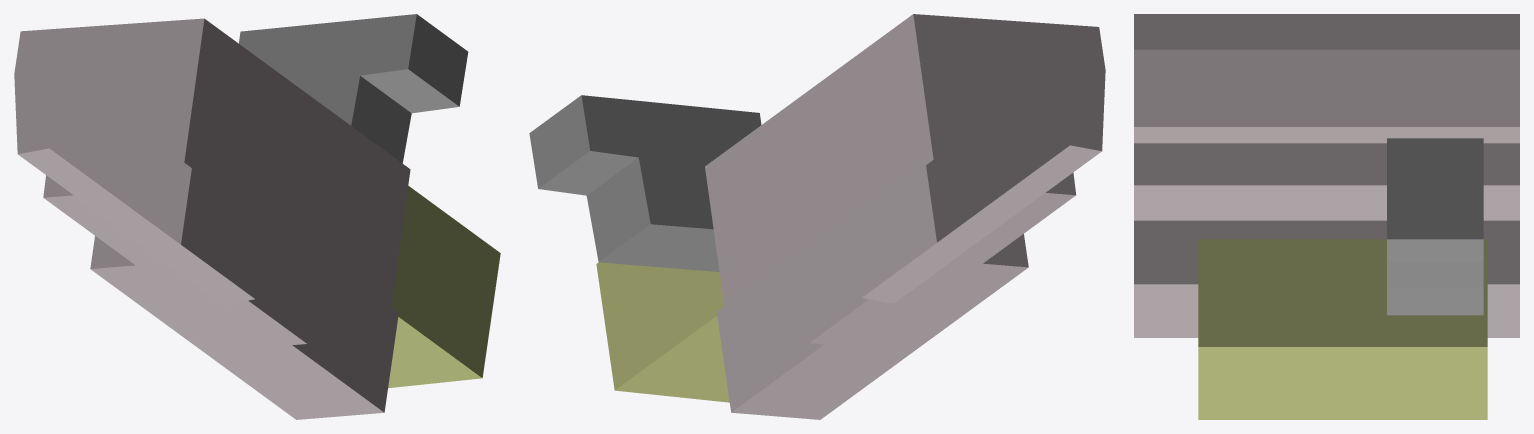
3 renders of one model, left to right at view 1: azimuth 30°, elevation 25°; view 2: azimuth 150°, elevation 25°; view 3: azimuth 270°, elevation 25°, orthographic. The views are drawn at different scales.
Visible parts, largest first — view 1: 0_1_2_0_1_3_0_2_3_0_3; view 2: 0_1_2_0_1_3_0_2_3_0_3; view 3: 0_1_2_0_1_3_0_2_3_0_3.
Boxes of the visible parts, x1,y1,x2,y2 form: 0_1_2_0_1_3_0_2_3_0_3: (14,14,500,419); 0_1_2_0_1_3_0_2_3_0_3: (529,14,1105,419); 0_1_2_0_1_3_0_2_3_0_3: (1134,14,1519,419).
Size of the model in its own units: 12.88 by 9.38 by 12.
